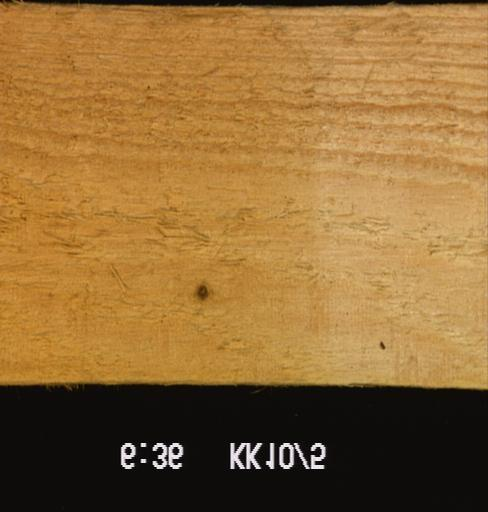small_knot: (192, 278, 211, 307), (373, 337, 388, 356)
